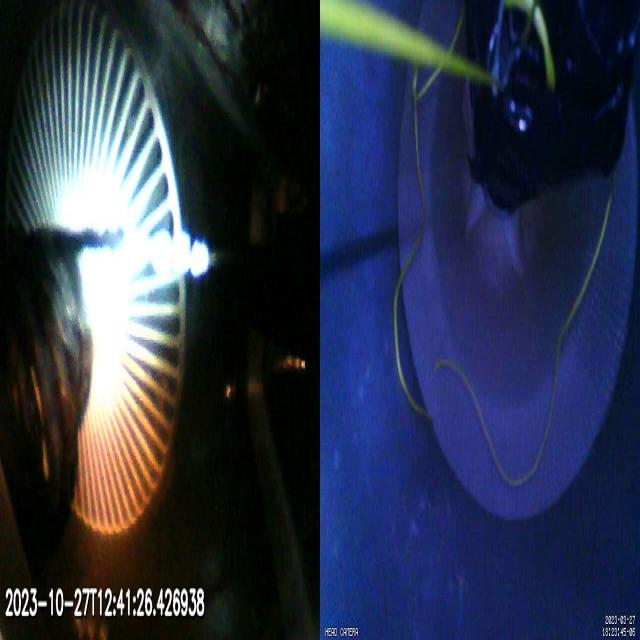white-dots: (153, 225, 209, 278)
